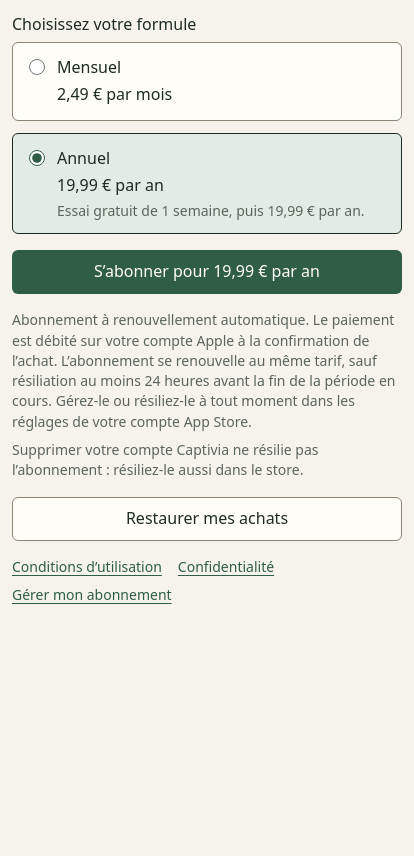
Test: NativePaywall › erreur réseau ou produit indisponible : message traduit
Click the button "S’abonner pour 19,99 € par an" at {"x": 207, "y": 272}, box [12,250,402,294]
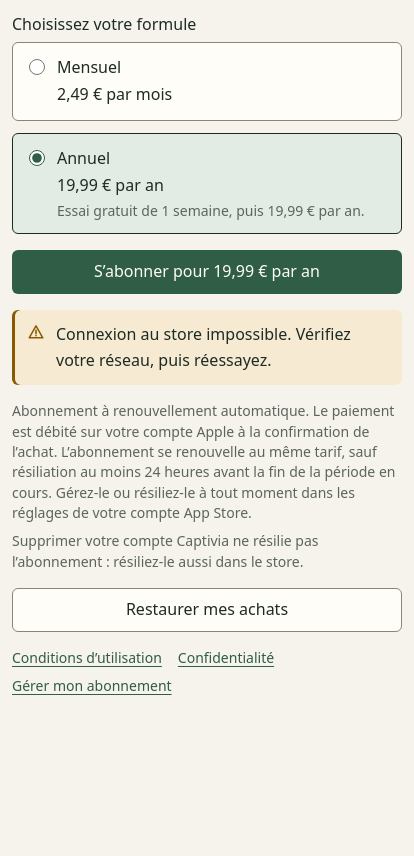
expect the text "Connexion au store impossible. Vérifiez votre réseau, puis réessayez." is shown: met, box [56,322,386,374]
Click the button "S’abonner pour 19,99 € par an" at {"x": 207, "y": 272}, box [12,250,402,294]
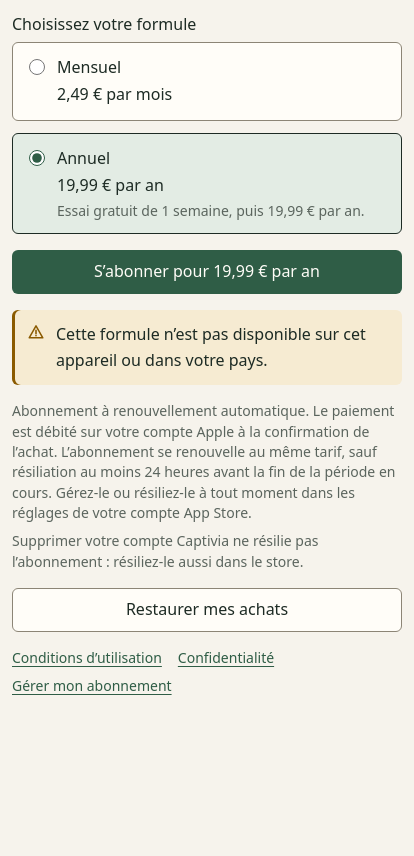
expect the text "Cette formule n’est pas disponible sur cet appareil ou dans votre pays." is shown: met, box [56,322,386,374]
